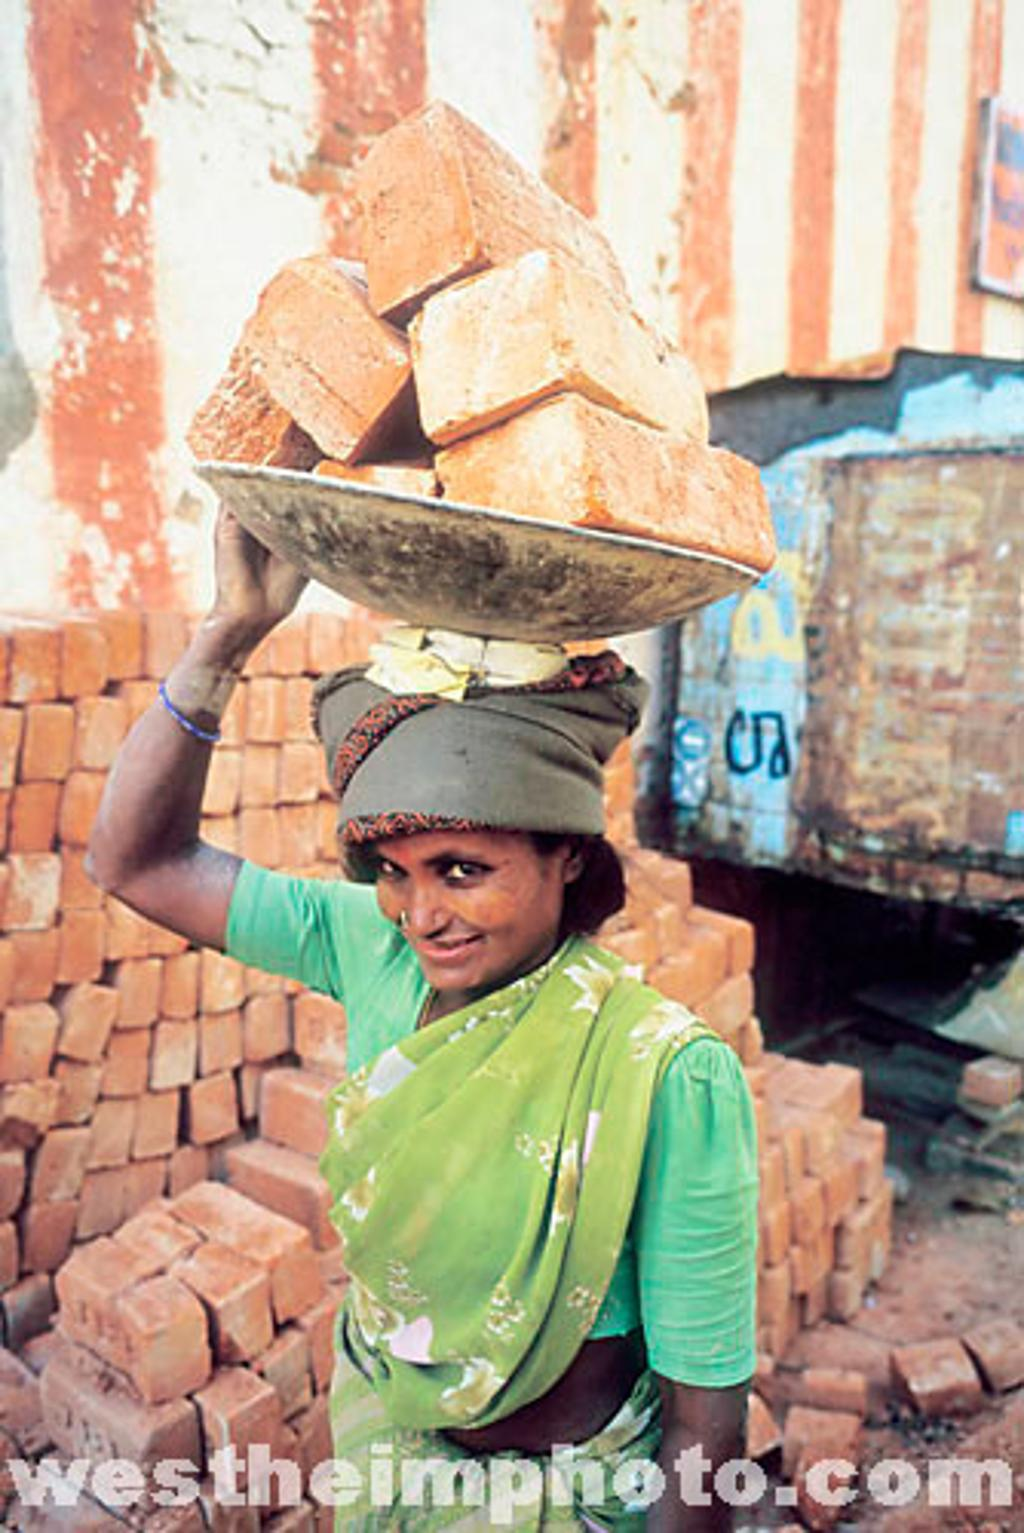face: (383, 781, 545, 988)
